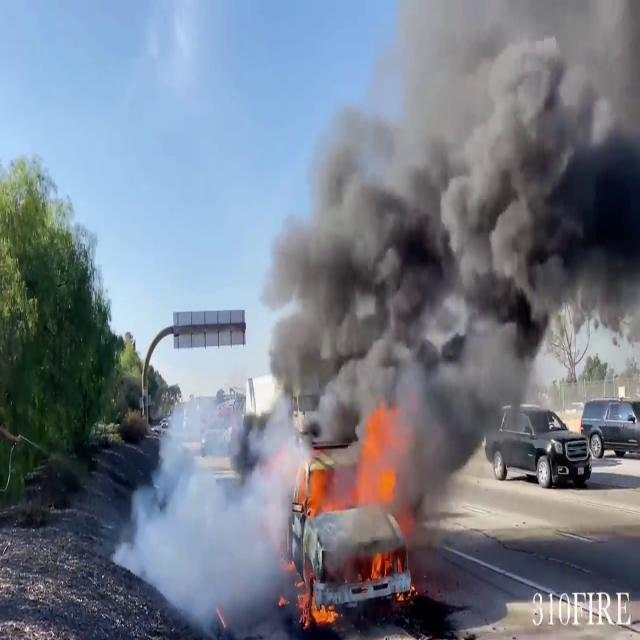Fire: (353, 392, 419, 521)
Smoke: (260, 0, 640, 472), (122, 386, 296, 628)
